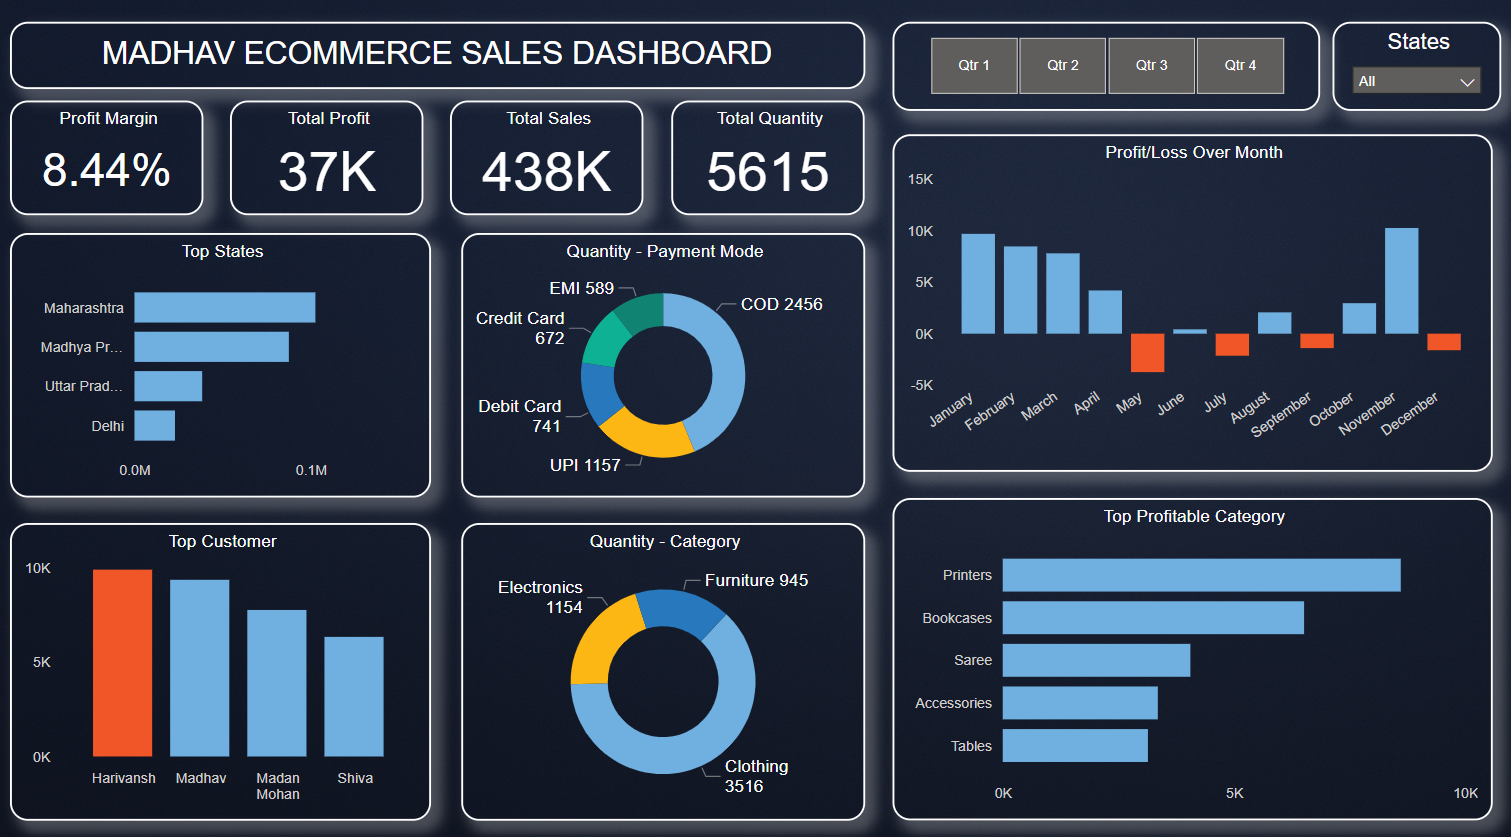

The dashboard page shown, as its layout file describes it:
{"tool":"powerbi","page":{"name":"Page 1","canvas":[1280,720],"ordinal":0},"visuals":[{"type":"slicer","title":"States","fields":{"Values":["Orders.State"]},"box":[1124.1,24.3,142.4,74.9],"z":0},{"type":"card","title":"Profit Margin","fields":{"Values":["Details.Profit Margin %"]},"box":[8.4,90.7,163.4,97],"z":1000},{"type":"card","title":"Total Profit","fields":{"Values":["Details.Total Profit"]},"box":[194,90.7,163.4,97],"z":2000},{"type":"card","title":"Total Quantity","fields":{"Values":["Details.Total Quantity"]},"box":[566.3,90.7,163.4,97],"z":3000},{"type":"card","title":"Total Sales","fields":{"Values":["Details.Total Sales"]},"box":[379.6,90.7,163.4,97],"z":4000},{"type":"slicer","title":"States","fields":{"Values":["Orders.Order Date.Variation.Date Hierarchy.Quarter"]},"box":[752.9,24.3,360.6,74.9],"z":5000},{"type":"donutChart","title":"Quantity - Category","fields":{"Y":["Details.Quantity"],"Category":["Details.Category"]},"box":[389.1,447.1,340.6,251],"z":6000},{"type":"donutChart","title":"Quantity - Payment Mode","fields":{"Category":["Details.PaymentMode"],"Y":["Details.Quantity"]},"box":[389.1,202.5,340.6,223.6],"z":7000},{"type":"columnChart","title":"Profit/Loss Over Month","fields":{"Y":["Details.Profit"],"Category":["Orders.Order Date.Variation.Date Hierarchy.Month"]},"box":[752.9,119.2,506.2,284.7],"z":8000},{"type":"columnChart","title":"Top Customer","fields":{"Category":["Orders.CustomerName"],"Y":["Details.Amount"]},"box":[8.4,447.1,355.4,251],"z":9000},{"type":"barChart","title":"Top States","fields":{"Y":["Details.Amount"],"Category":["Orders.State"]},"box":[8.4,202.5,355.4,223.6],"z":10000},{"type":"barChart","title":"Top Profitable Category","fields":{"Y":["Details.Profit"],"Category":["Details.Sub-Category"]},"box":[752.9,426,506.2,272.1],"z":11000},{"type":"textbox","box":[8.4,24.3,721.3,56.9],"z":12000}]}

Visuals, with their boxes in screenshot pixels (x1, y1, x2, y2), scaled from the page's 1280x720 canvas onto the 1511x837 screenshot:
"States" slicer: <box>1327,28,1495,115</box>
"Profit Margin" card: <box>10,105,203,218</box>
"Total Profit" card: <box>229,105,422,218</box>
"Total Quantity" card: <box>668,105,861,218</box>
"Total Sales" card: <box>448,105,641,218</box>
"States" slicer: <box>889,28,1314,115</box>
"Quantity - Category" donutChart: <box>459,520,861,812</box>
"Quantity - Payment Mode" donutChart: <box>459,235,861,495</box>
"Profit/Loss Over Month" columnChart: <box>889,139,1486,470</box>
"Top Customer" columnChart: <box>10,520,429,812</box>
"Top States" barChart: <box>10,235,429,495</box>
"Top Profitable Category" barChart: <box>889,495,1486,812</box>
textbox: <box>10,28,861,94</box>
